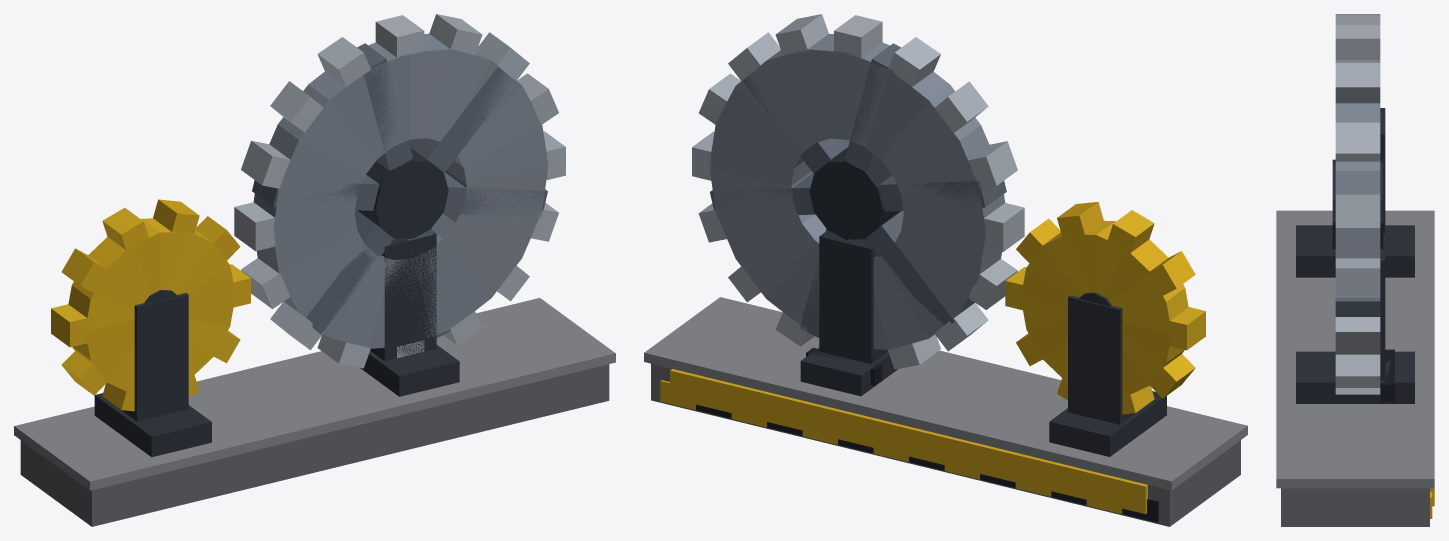
The model's file is Decor_RobotFactory_Gears.fbx.
3 views of the same model, side by side, from view 1: azimuth 30°, elevation 25°; view 2: azimuth 150°, elevation 25°; view 3: azimuth 270°, elevation 25° (orthographic). The views are drawn at different scales.
Parts seen in each view (by area): view 1: Gears_Body; view 2: Gears_Body; view 3: Gears_Body.
Part boxes in pixels (x1=…): Gears_Body: x1=14, y1=14, x2=615, y2=526; Gears_Body: x1=644, y1=14, x2=1247, y2=526; Gears_Body: x1=1276, y1=14, x2=1434, y2=526.
Bounding box in the file's own units: 24 × 17 × 6.
